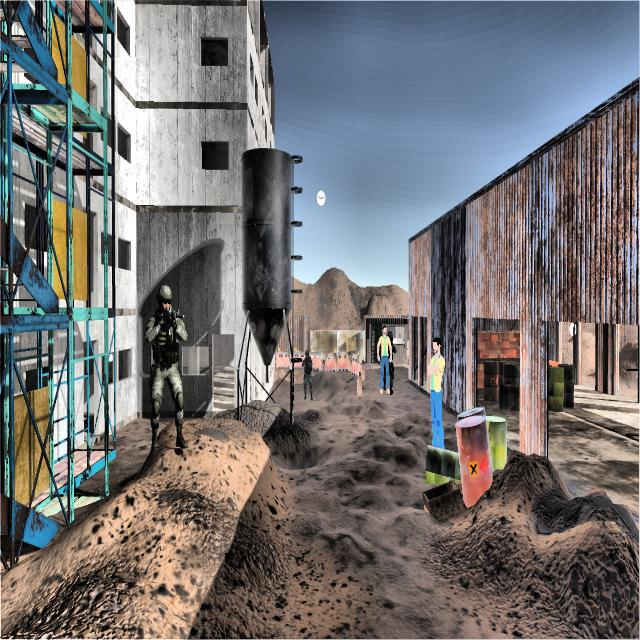bad: (138, 275, 193, 463), (300, 346, 316, 404)
good: (422, 326, 452, 455), (376, 320, 394, 395)
